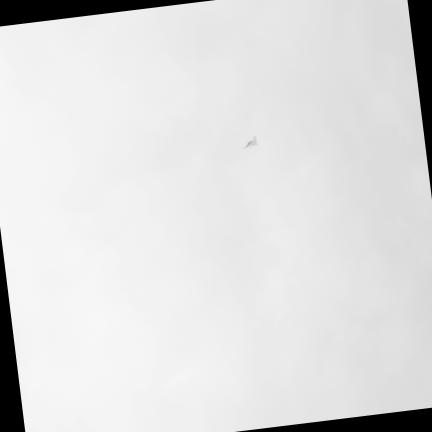Shahed: (243, 135, 257, 145)
